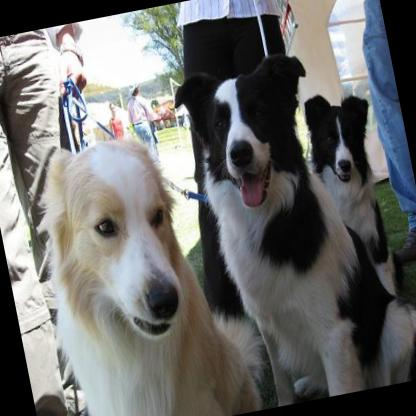Border_collie: (165, 30, 416, 413)
